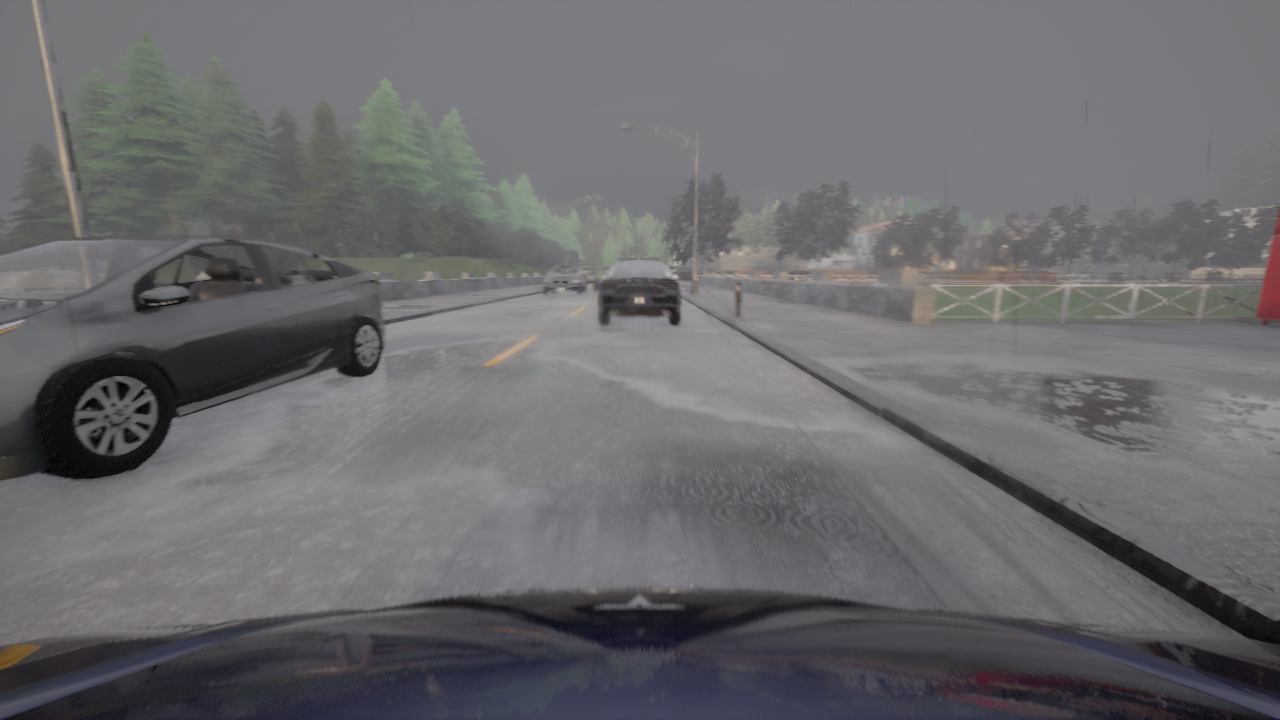cyclist: (0, 588, 1279, 719), (0, 235, 386, 481), (599, 256, 680, 324), (543, 265, 587, 294), (577, 263, 600, 290), (672, 272, 673, 274)
